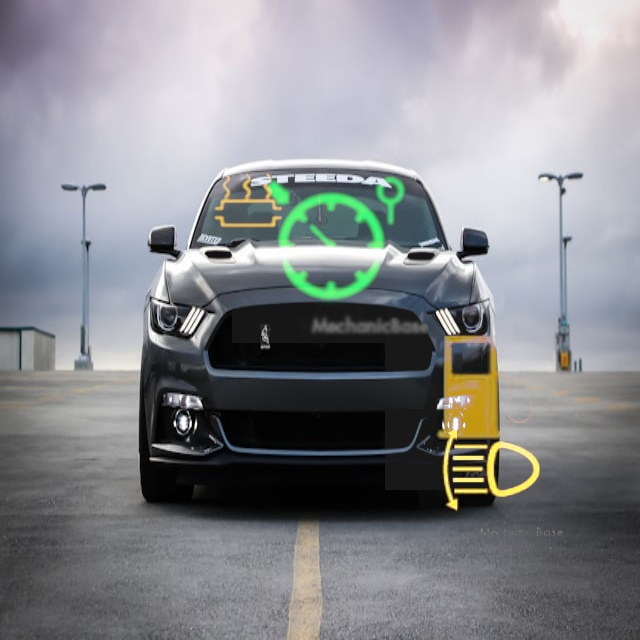symbol: (232, 138, 437, 343), (385, 287, 588, 490), (419, 394, 566, 541), (183, 135, 314, 266)
